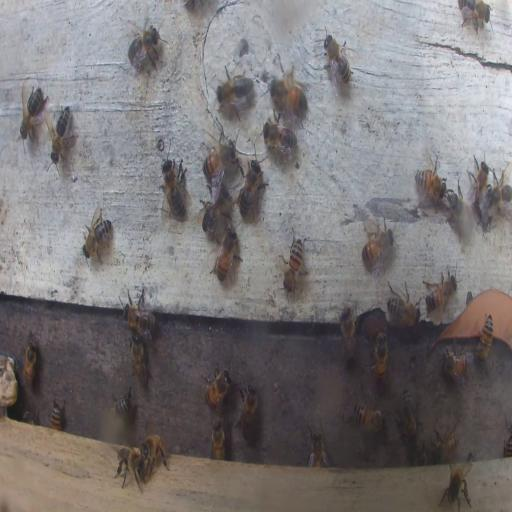bee: (238, 150, 266, 220), (266, 75, 311, 117), (127, 21, 164, 72), (160, 154, 188, 221), (81, 204, 113, 262), (322, 28, 352, 89), (214, 68, 252, 116), (361, 222, 395, 274), (464, 153, 491, 218), (120, 289, 156, 337), (440, 460, 474, 510), (18, 82, 48, 138), (47, 104, 75, 163), (385, 279, 420, 326), (112, 444, 146, 491), (212, 227, 240, 282), (423, 270, 459, 312), (282, 231, 305, 296), (202, 140, 235, 185), (262, 116, 298, 156), (413, 162, 446, 205), (236, 382, 259, 439), (448, 189, 472, 238), (203, 366, 230, 408), (140, 433, 167, 474), (353, 398, 385, 432), (399, 388, 417, 445), (431, 428, 460, 463), (130, 334, 149, 386), (339, 306, 356, 362), (458, 3, 492, 31), (475, 314, 494, 362), (307, 428, 329, 468), (372, 333, 388, 383), (109, 383, 133, 416), (442, 349, 468, 379), (492, 172, 512, 210), (202, 198, 225, 230), (24, 338, 37, 383), (212, 420, 224, 460), (49, 402, 62, 430), (504, 425, 512, 456), (414, 446, 427, 464), (22, 406, 36, 422)
